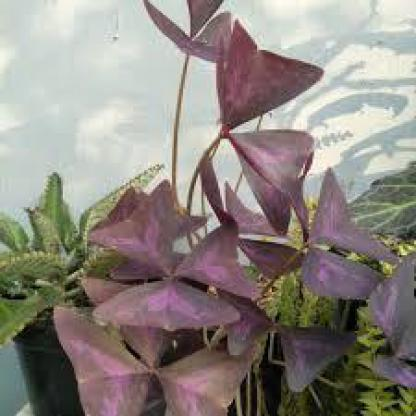Kupu-Kupu: (47, 299, 277, 415), (96, 203, 253, 336), (219, 31, 315, 229), (286, 186, 387, 297), (147, 1, 260, 55)
